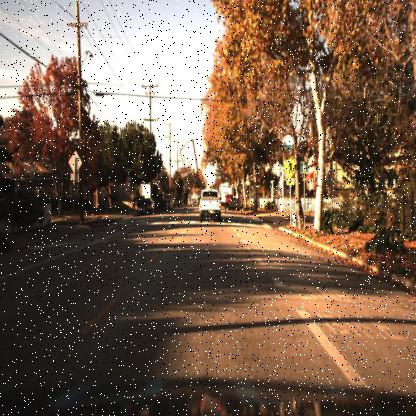car: (197, 184, 222, 224), (138, 196, 154, 218)
